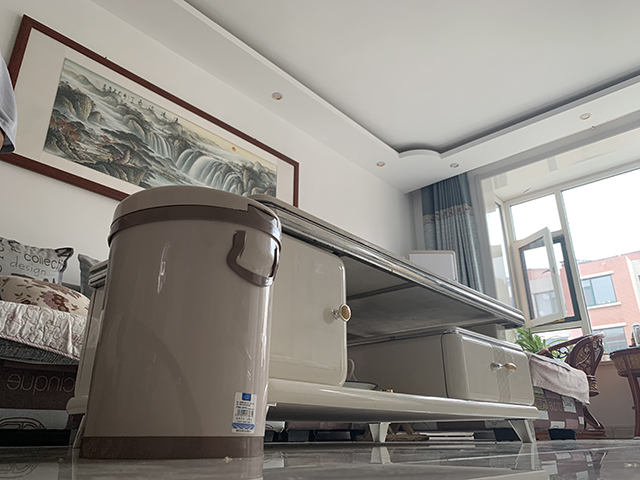sofa: (1, 226, 79, 450)
stool: (542, 333, 611, 441)
table: (64, 193, 542, 445)
trashcan: (78, 184, 283, 463)
